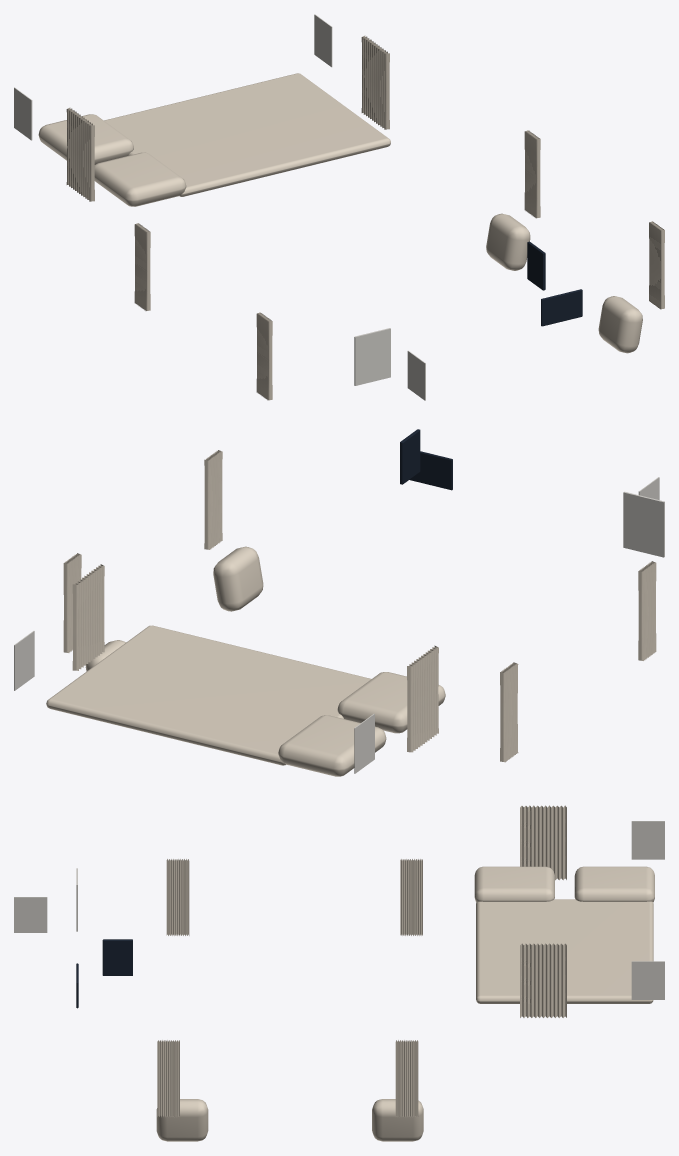
File: softgoods.glb
3 renders of one model, top to bottom at view 1: azimuth 30°, elevation 25°; view 2: azimuth 150°, elevation 25°; view 3: azimuth 270°, elevation 25°, orthographic. The views are drawn at different scales.
Parts seen in each view (by area): view 1: softgoods_details; view 2: softgoods_details; view 3: softgoods_details.
Boxes of the visible parts, x1,y1,x2,y2 form: softgoods_details: (14,14,664,400); softgoods_details: (14,429,664,776); softgoods_details: (14,805,664,1141).
Size of the model in its own units: 2.86 by 1.23 by 4.29.
